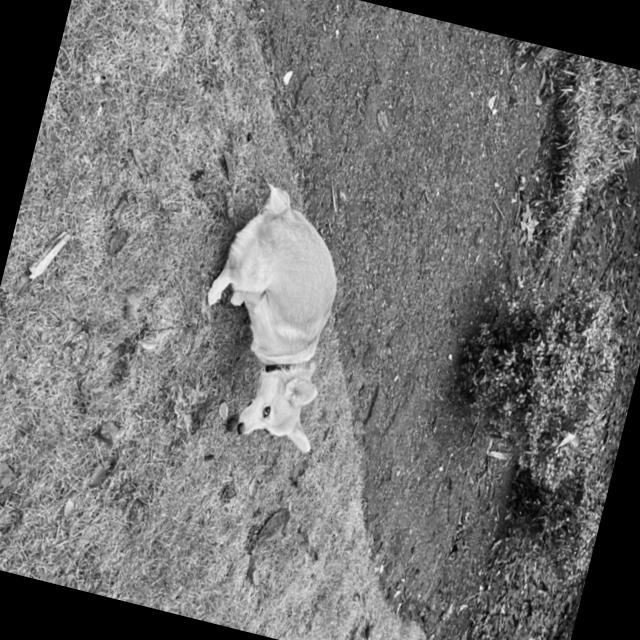squatting: (169, 169, 375, 464)
